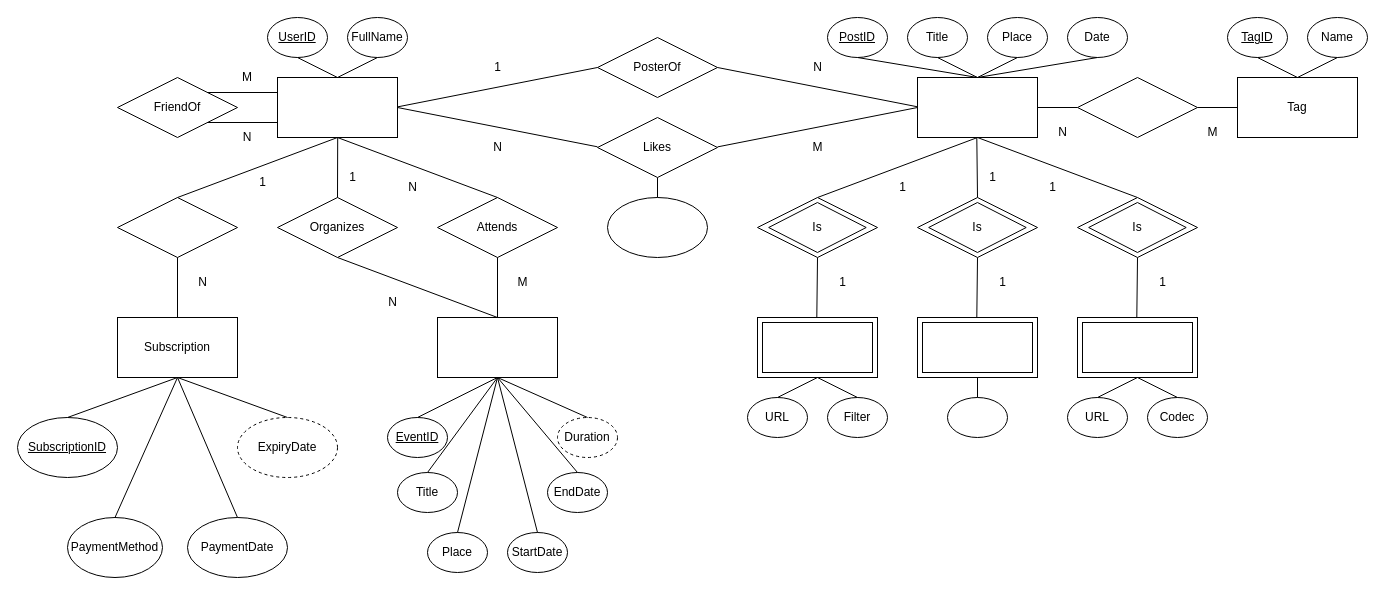
Some shapes in this 1385 by 595 pixel diagram are drawn without their labels. The centre of each missing label's shape, as x and y in pixels:
Contents: point (977, 417)
Event: point (497, 347)
Has: point (177, 227)
HasTag: point (1137, 107)
ImagePost: point (817, 347)
Post: point (977, 107)
TextPost: point (977, 347)
Timestamp: point (657, 227)
User: point (337, 107)
VideoPost: point (1137, 347)
